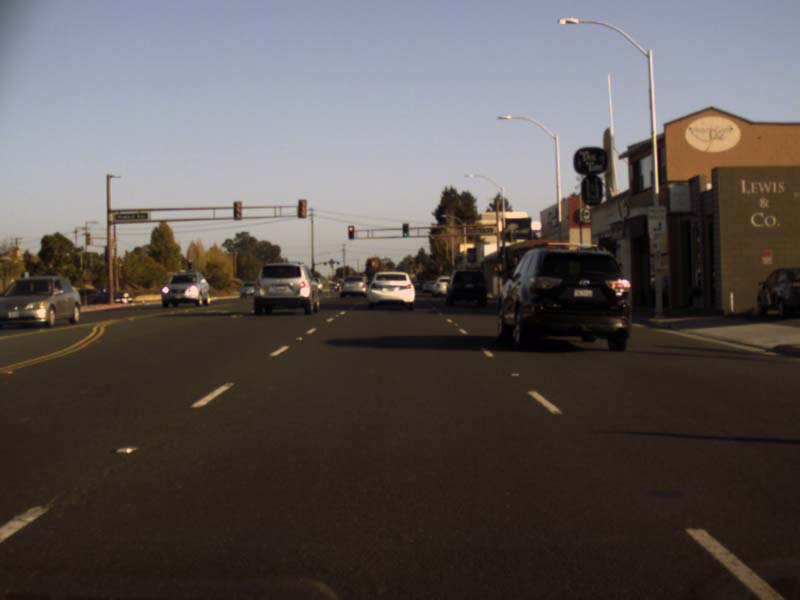Green: (402, 223, 409, 237)
Red: (347, 225, 354, 239)
